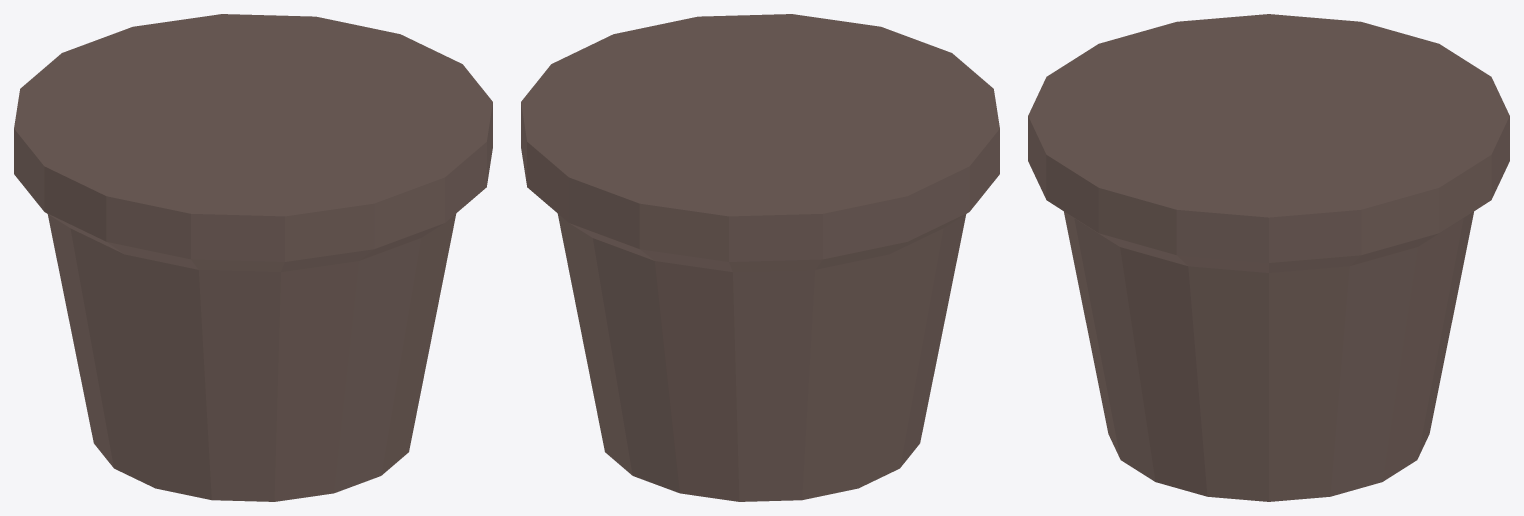
The model's file is pot_14711391.ol.glb.
3 views of the same model, side by side, from view 1: azimuth 30°, elevation 25°; view 2: azimuth 150°, elevation 25°; view 3: azimuth 270°, elevation 25° (orthographic).
Size of the model in its own units: 0.9984 by 0.728 by 0.9984.
